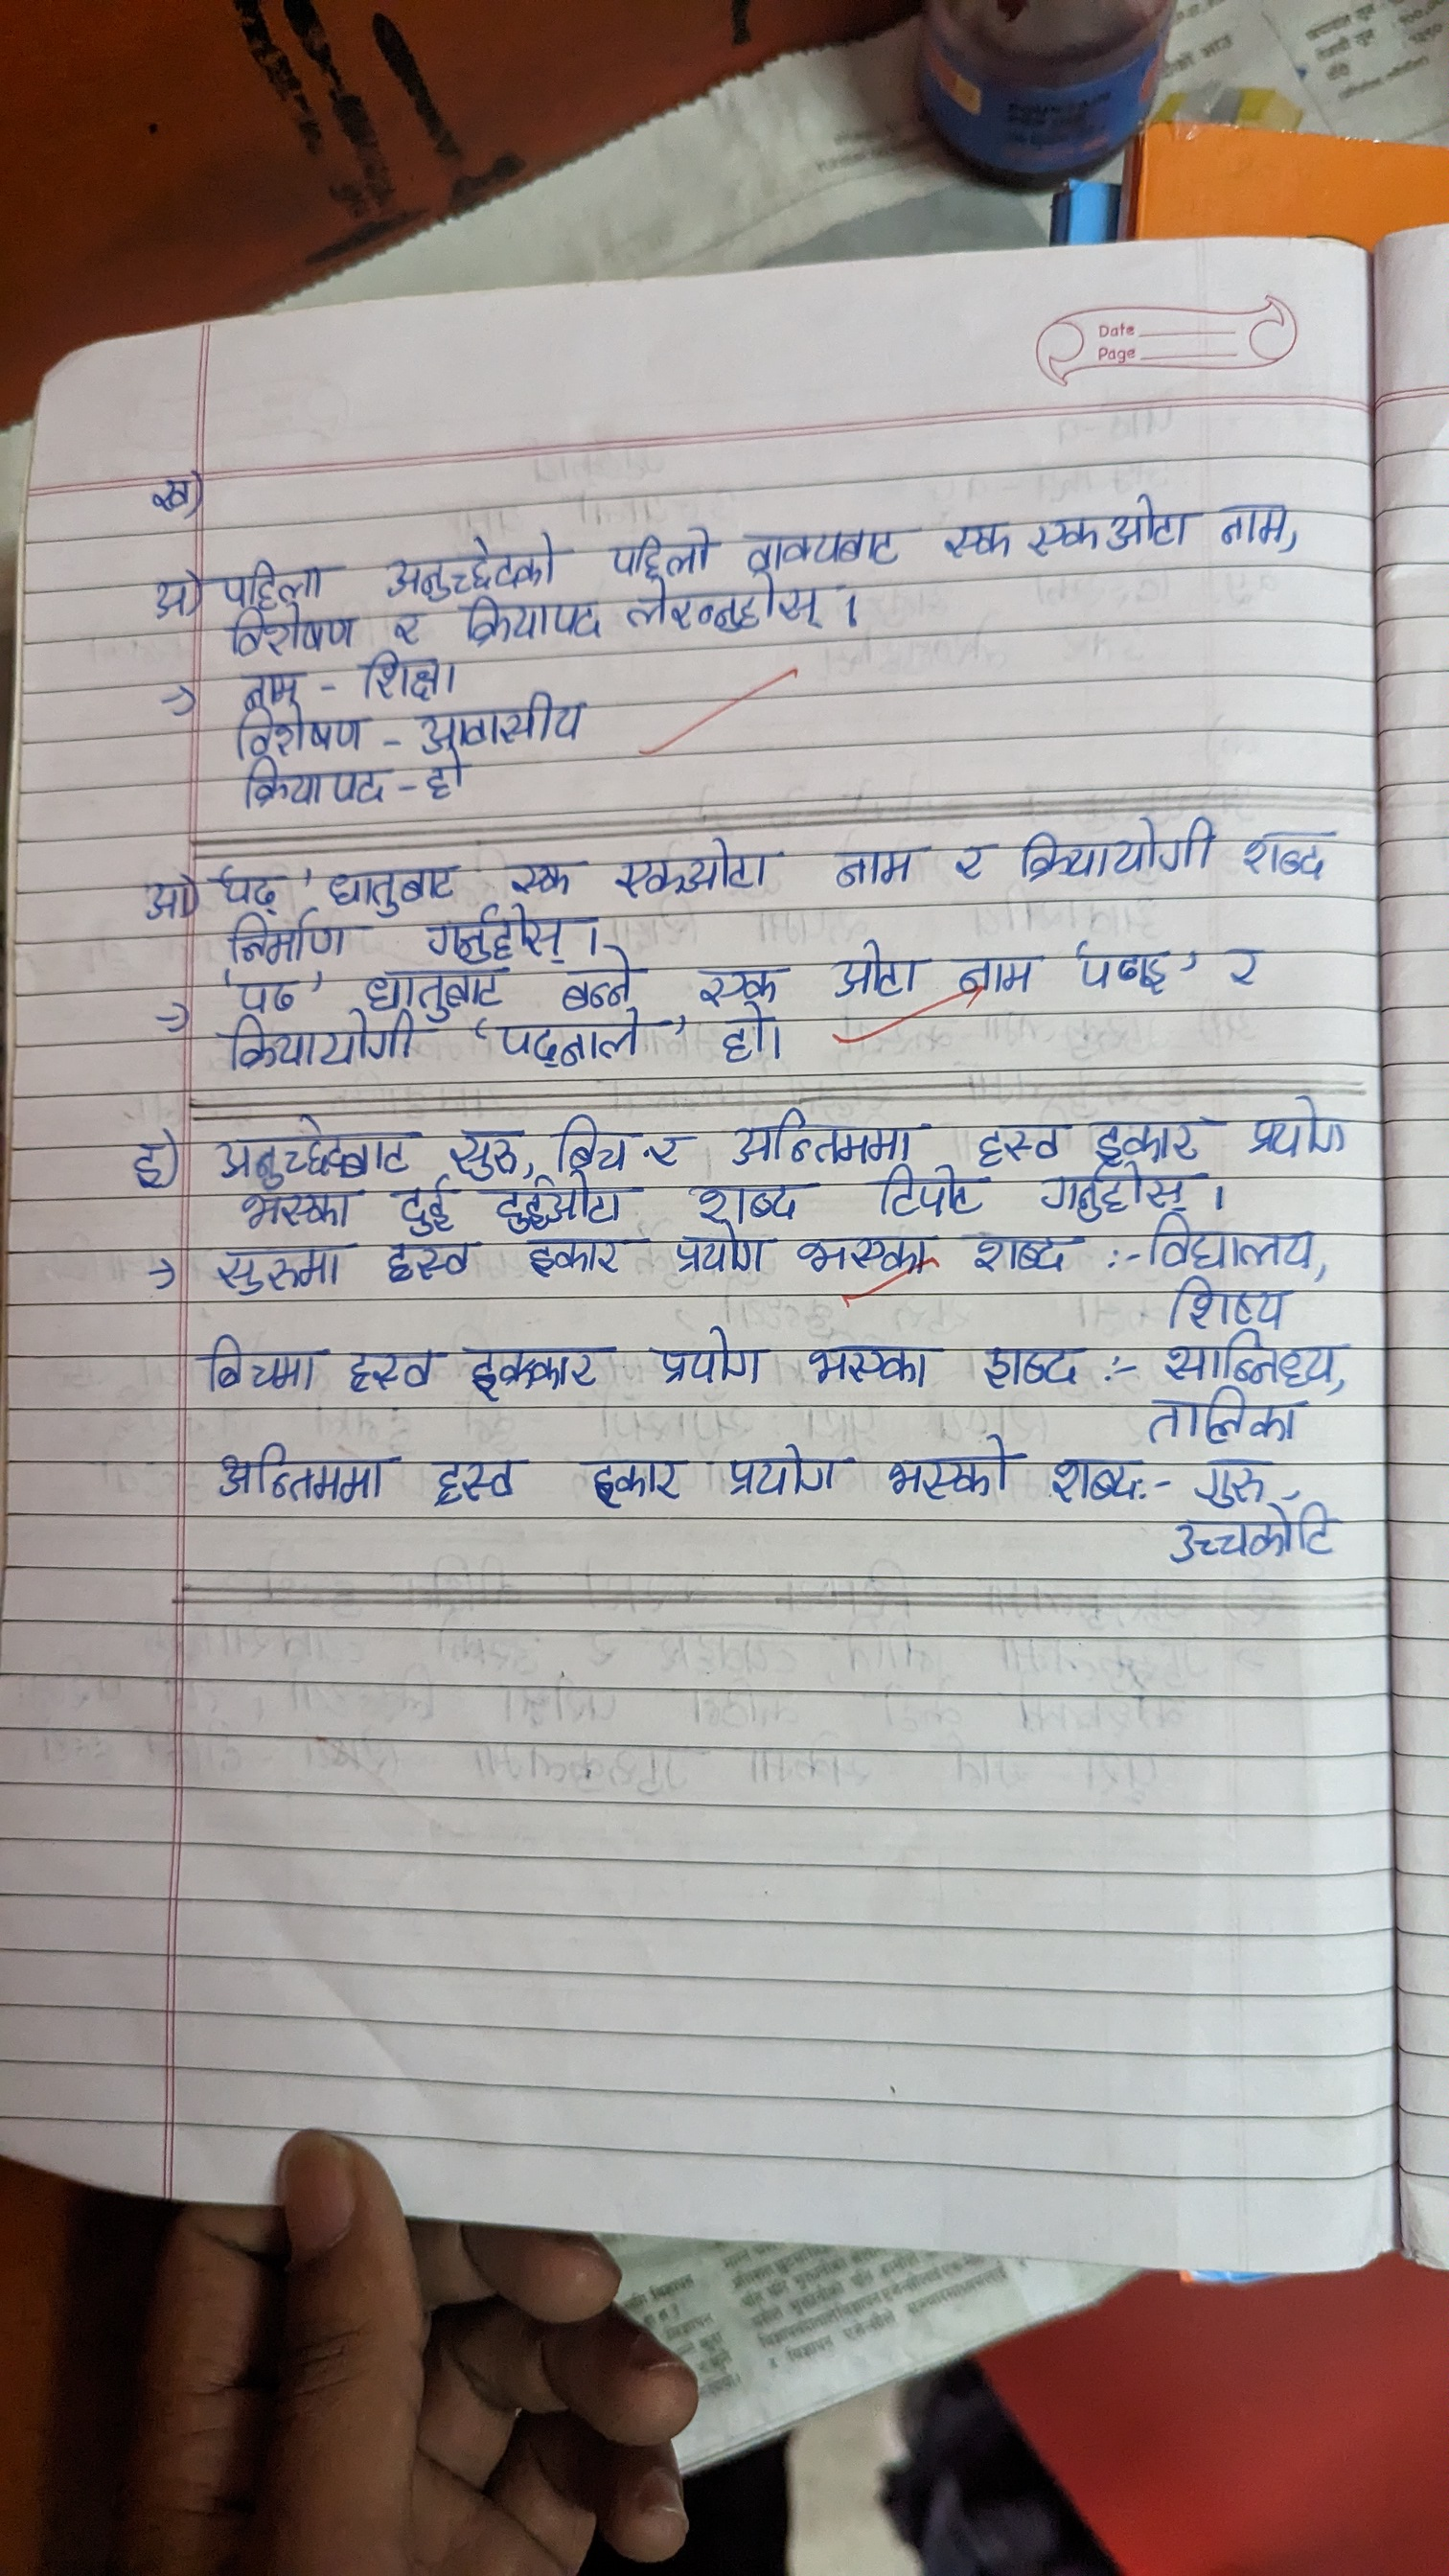text: (216, 1437, 400, 1509), (209, 1115, 409, 1180), (1012, 816, 1217, 879), (377, 529, 564, 591), (722, 1104, 913, 1164), (211, 1019, 423, 1072), (609, 835, 786, 897), (1141, 1217, 1320, 1277), (1028, 490, 1191, 556), (625, 582, 824, 635), (453, 1332, 614, 1398), (1159, 1332, 1341, 1385), (881, 1431, 1017, 1502), (1168, 1511, 1336, 1564), (416, 697, 582, 750), (1139, 1389, 1302, 1442), (725, 1435, 842, 1506), (418, 909, 577, 961), (794, 1334, 932, 1392), (495, 1017, 651, 1069), (1237, 1093, 1355, 1161), (648, 1318, 766, 1385), (425, 1435, 524, 1511), (490, 1178, 623, 1235), (959, 1226, 1086, 1284), (209, 1244, 349, 1297), (743, 524, 906, 568), (458, 596, 609, 644), (244, 759, 384, 810), (968, 1341, 1090, 1399), (226, 708, 372, 755), (200, 1338, 318, 1396), (1033, 1169, 1194, 1212), (589, 1440, 688, 1509), (796, 1233, 943, 1279), (1042, 1445, 1139, 1514), (1154, 1283, 1297, 1329), (1095, 1104, 1203, 1164), (1231, 821, 1336, 881), (318, 862, 449, 908), (361, 970, 502, 1012), (663, 1226, 771, 1281), (379, 1238, 490, 1290), (223, 913, 352, 957), (1070, 938, 1168, 996), (605, 520, 711, 573), (221, 610, 354, 653), (211, 564, 336, 609), (517, 1235, 626, 1283), (970, 1111, 1063, 1166), (686, 1178, 798, 1224), (232, 1189, 357, 1230), (872, 1169, 982, 1215), (950, 941, 1040, 996), (833, 945, 922, 998), (699, 954, 784, 1007), (363, 651, 460, 697), (826, 839, 913, 890), (140, 456, 211, 518), (444, 1122, 522, 1177), (1215, 497, 1292, 550), (547, 1116, 628, 1166), (341, 1350, 441, 1391), (1192, 1453, 1267, 1506), (938, 513, 1008, 566), (120, 1123, 173, 1194), (1217, 938, 1279, 996), (708, 1010, 771, 1063), (559, 966, 639, 1005), (499, 860, 582, 897), (214, 865, 287, 908), (228, 971, 303, 1010), (395, 1185, 456, 1231), (235, 663, 304, 704), (136, 876, 195, 924), (142, 568, 195, 619), (425, 754, 478, 805), (639, 1125, 688, 1169), (948, 840, 994, 879), (389, 612, 426, 646)
